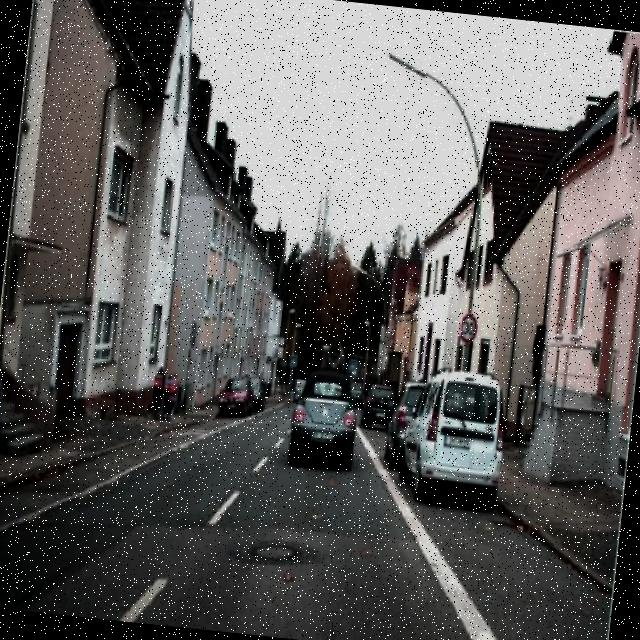Ograniczenie predkosci do 30: (454, 306, 480, 347)
